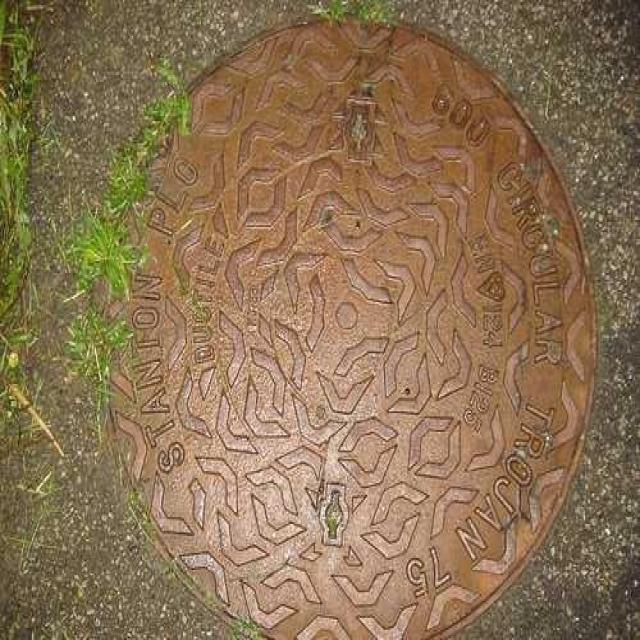manhole: (111, 19, 599, 640)
